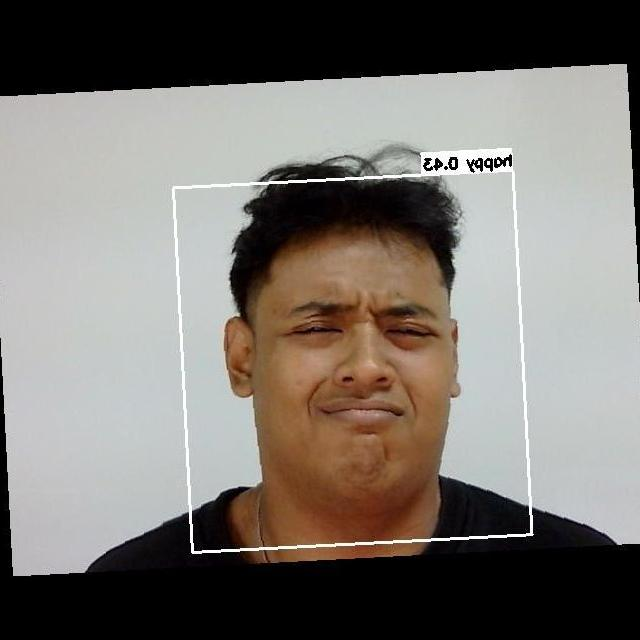Disgust: (248, 280, 459, 471)
